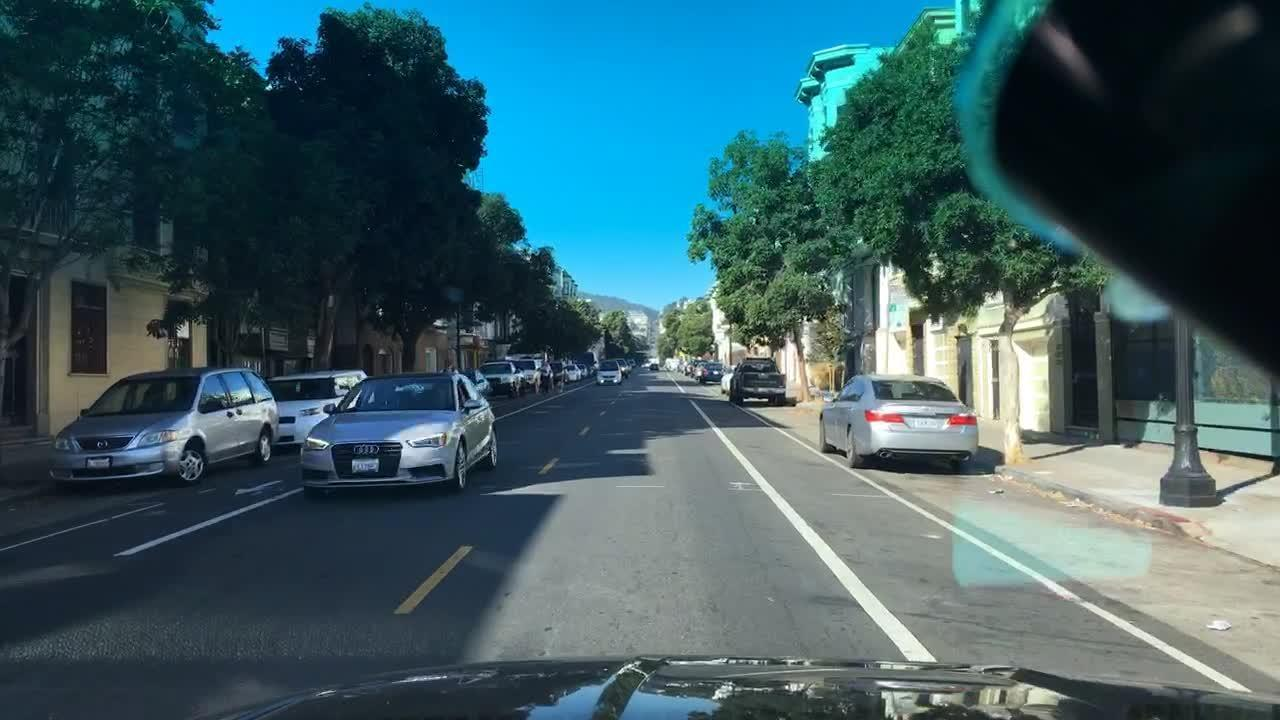Audi: (351, 441, 381, 457)
